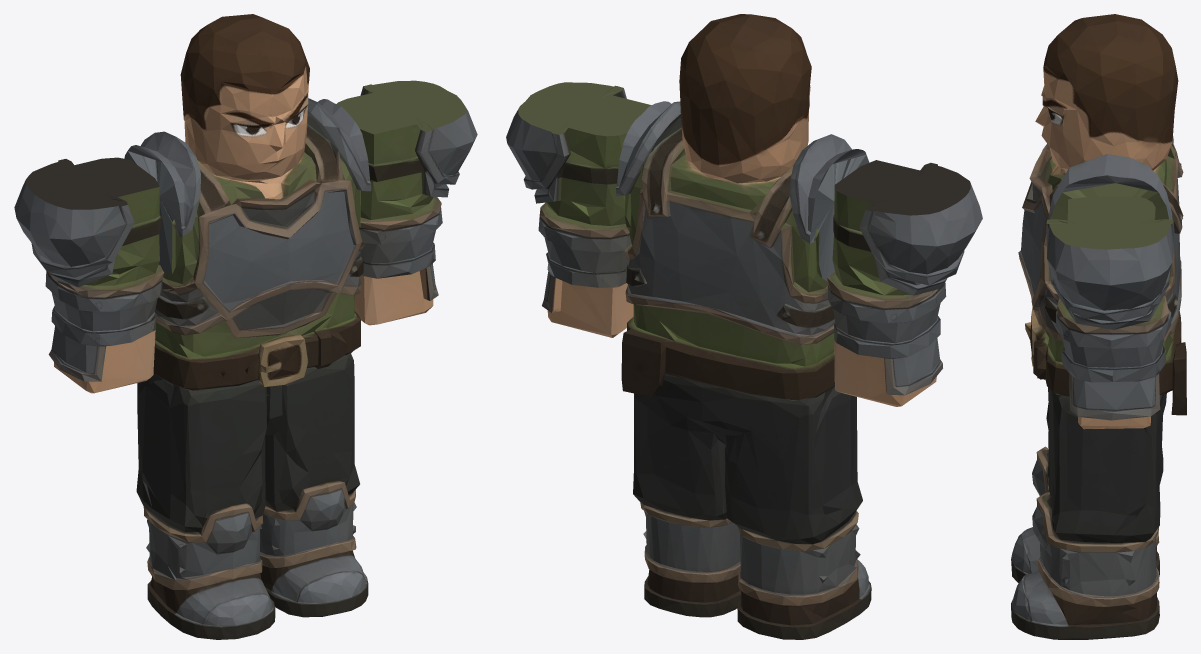
Rendered from Goro_R6_Auto.fbx.
3 views of the same model, side by side, from view 1: azimuth 30°, elevation 25°; view 2: azimuth 150°, elevation 25°; view 3: azimuth 270°, elevation 25° (orthographic). The views are drawn at different scales.
Parts seen in each view (by area): view 1: Torso, RightLeg, RightArm, LeftArm, LeftLeg, Head; view 2: Torso, RightLeg, RightArm, LeftArm, Head, LeftLeg; view 3: LeftLeg, LeftArm, Head, Torso, RightLeg.
Boxes of the visible parts, x1=… form: Torso: x1=124, y1=122, x2=371, y2=410; RightLeg: x1=136, y1=381, x2=276, y2=639; RightArm: x1=14, y1=157, x2=163, y2=393; LeftArm: x1=337, y1=80, x2=477, y2=325; LeftLeg: x1=260, y1=369, x2=368, y2=617; Head: x1=128, y1=14, x2=363, y2=184; Torso: x1=615, y1=125, x2=869, y2=419; RightLeg: x1=716, y1=395, x2=871, y2=639; RightArm: x1=827, y1=160, x2=982, y2=406; LeftArm: x1=506, y1=82, x2=651, y2=337; Head: x1=623, y1=14, x2=866, y2=189; LeftLeg: x1=623, y1=387, x2=740, y2=617; LeftLeg: x1=1011, y1=387, x2=1186, y2=639; LeftArm: x1=1046, y1=196, x2=1174, y2=429; Head: x1=1035, y1=14, x2=1178, y2=192; Torso: x1=1018, y1=136, x2=1186, y2=417; RightLeg: x1=1011, y1=402, x2=1163, y2=583.
Bounding box in the file's own units: 4.46 × 5.49 × 1.53.
Materials: 1 (1 with a texture image).
